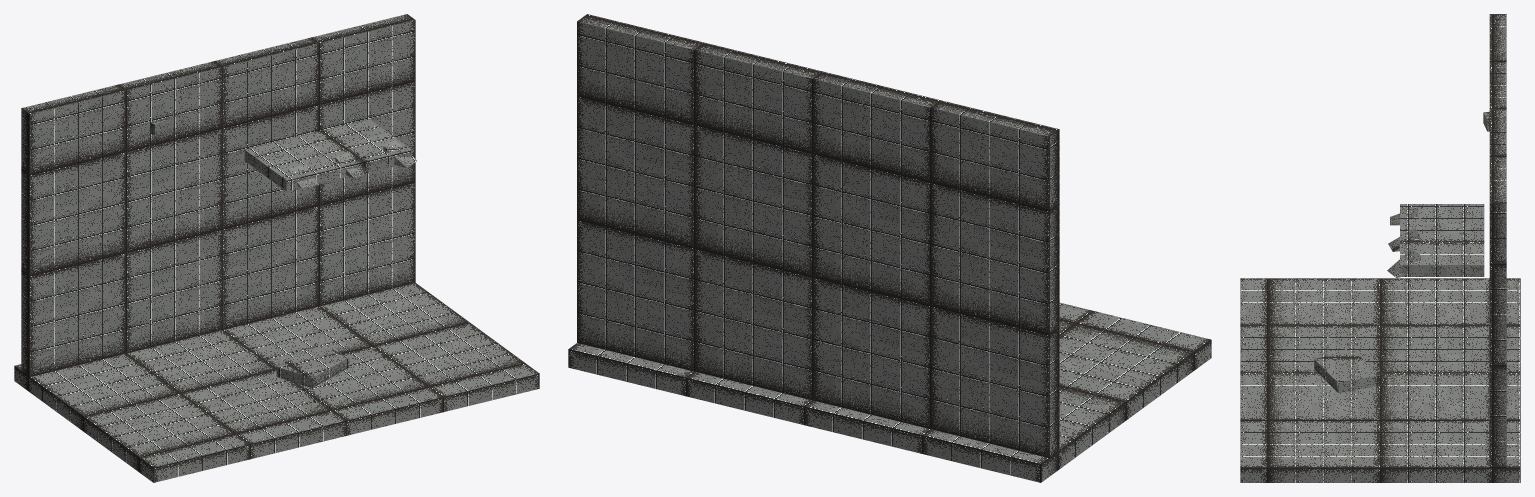
File: gate_grapple_ragged.glb
The picture shows the model from 3 angles, left to right: view 1: azimuth 30°, elevation 25°; view 2: azimuth 150°, elevation 25°; view 3: azimuth 270°, elevation 25°; orthographic projection. The views are drawn at different scales.
Visible parts, largest first — view 1: gate_grapple_ragged; view 2: gate_grapple_ragged; view 3: gate_grapple_ragged.
Boxes of the visible parts, <box> form: gate_grapple_ragged: <box>14,14,539,482</box>; gate_grapple_ragged: <box>568,14,1211,482</box>; gate_grapple_ragged: <box>1240,14,1520,482</box>.
Bounding box in the file's own units: 8 × 5.5 × 5.
1 material, 1 textured.
